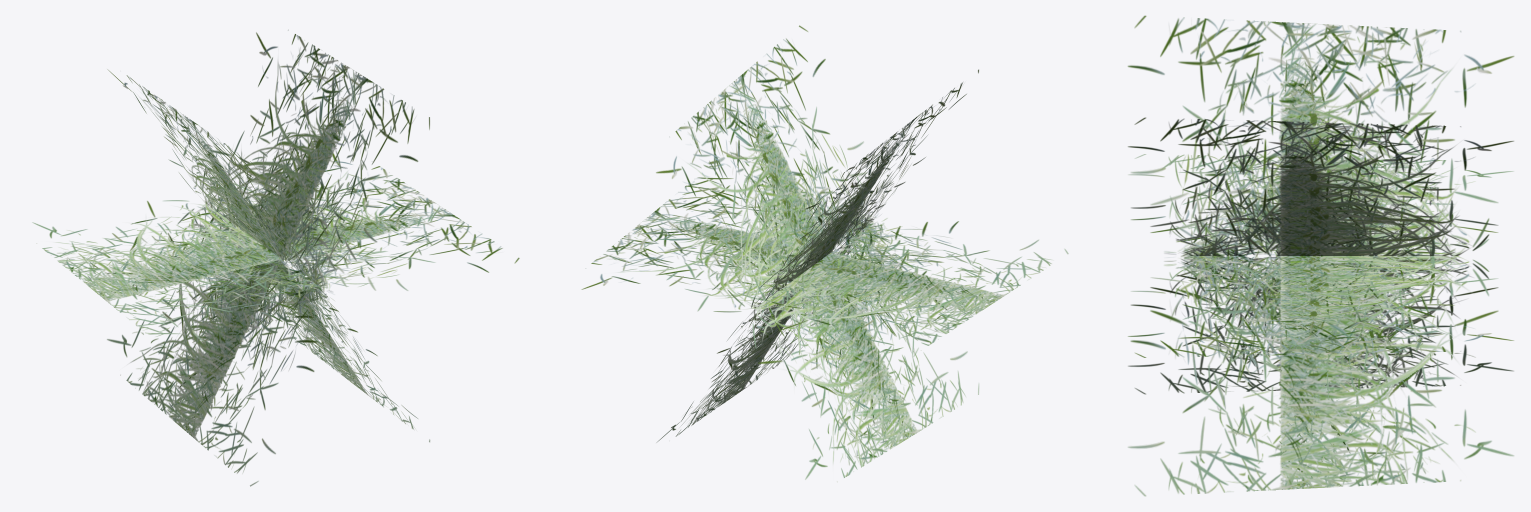
File: GrassCard_Tall_B.glb
3 renders of one model, left to right at view 1: azimuth 30°, elevation 25°; view 2: azimuth 150°, elevation 25°; view 3: azimuth 270°, elevation 25°, orthographic. The views are drawn at different scales.
Visible parts, largest first — view 1: GrassCard_Tall_B; view 2: GrassCard_Tall_B; view 3: GrassCard_Tall_B.
Boxes of the visible parts, left/top/right/bottom form: GrassCard_Tall_B: left=32, top=30, right=519, bottom=486; GrassCard_Tall_B: left=581, top=25, right=1068, bottom=481; GrassCard_Tall_B: left=1128, top=15, right=1513, bottom=496.
Bounding box in the file's own units: 0.3 × 0.2598 × 0.25.
Materials: 1 (1 with a texture image).
